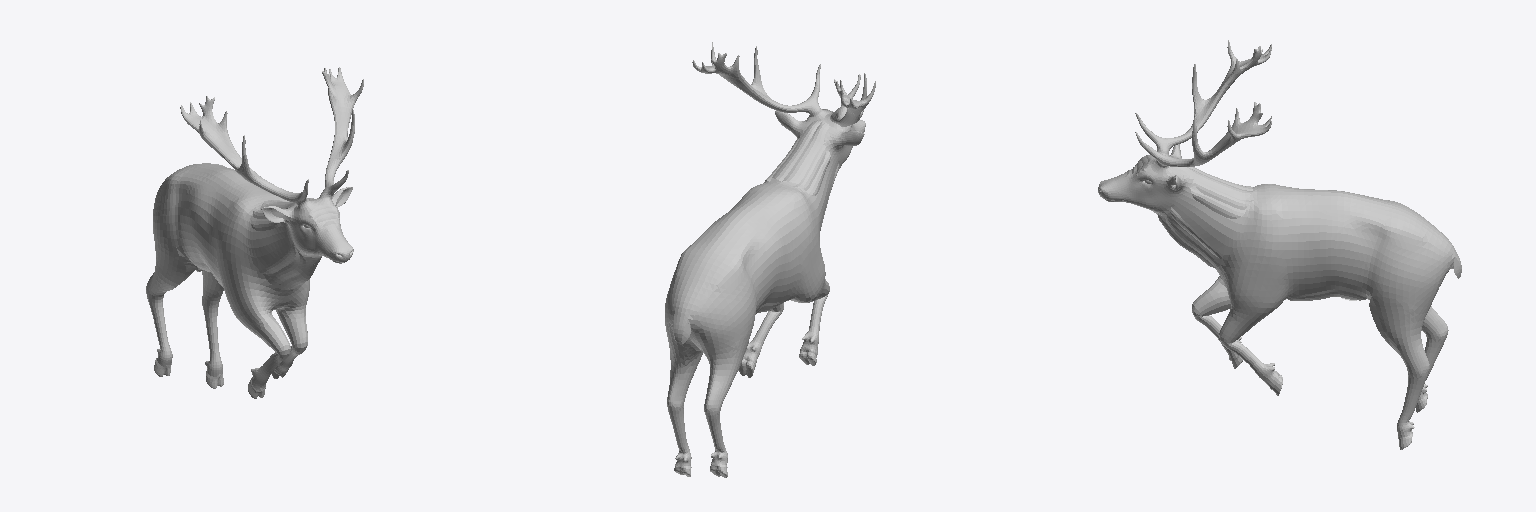
Rendered from frame_0015_uv.obj.
The picture shows the model from 3 angles: view 1: azimuth 30°, elevation 25°; view 2: azimuth 150°, elevation 25°; view 3: azimuth 270°, elevation 25°; orthographic projection.
Visible parts, largest first — view 1: pMesh1; view 2: pMesh1; view 3: pMesh1.
Boxes of the visible parts, <box> form: pMesh1: <box>146,67,363,398</box>; pMesh1: <box>665,42,875,477</box>; pMesh1: <box>1098,40,1461,449</box>.
Bounding box in the file's own units: 1.05 × 2.22 × 2.01.